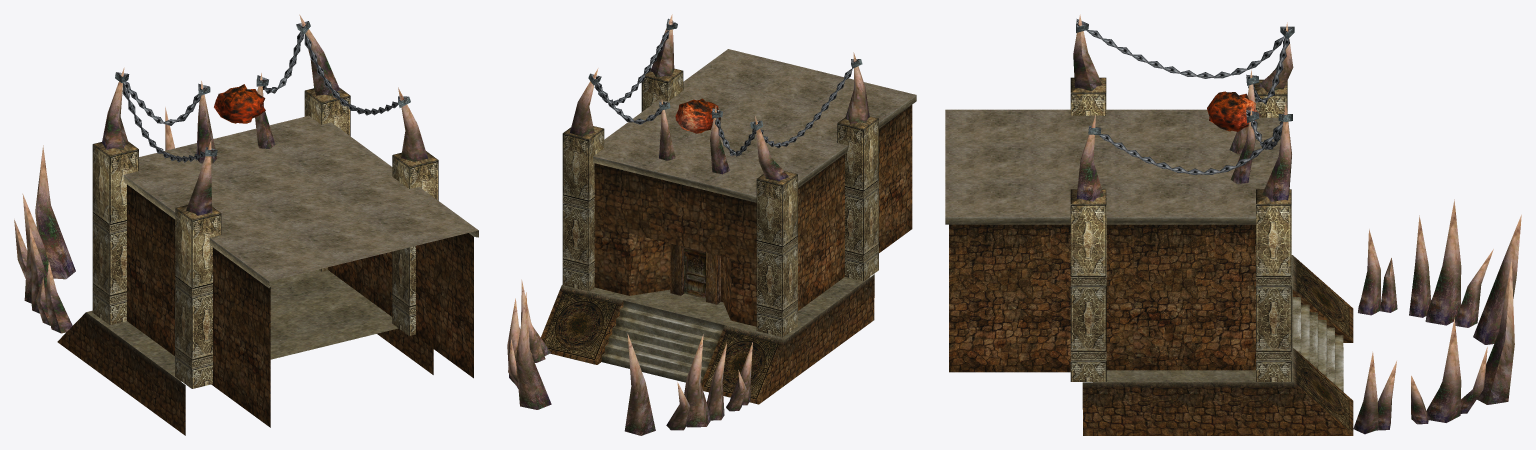
The model's file is hrt_mageh.glb.
3 views of the same model, side by side, from view 1: azimuth 30°, elevation 25°; view 2: azimuth 150°, elevation 25°; view 3: azimuth 270°, elevation 25° (orthographic). The views are drawn at different scales.
Visible parts, largest first — view 1: hrt_mageh; view 2: hrt_mageh; view 3: hrt_mageh.
Part boxes in pixels (box(x1,y1,x2,y2)): hrt_mageh: box(14, 14, 478, 435); hrt_mageh: box(507, 14, 916, 435); hrt_mageh: box(945, 14, 1521, 435).
Bounding box in the file's own units: 11.48 × 12.71 × 21.01.
15 materials, 15 textured.
